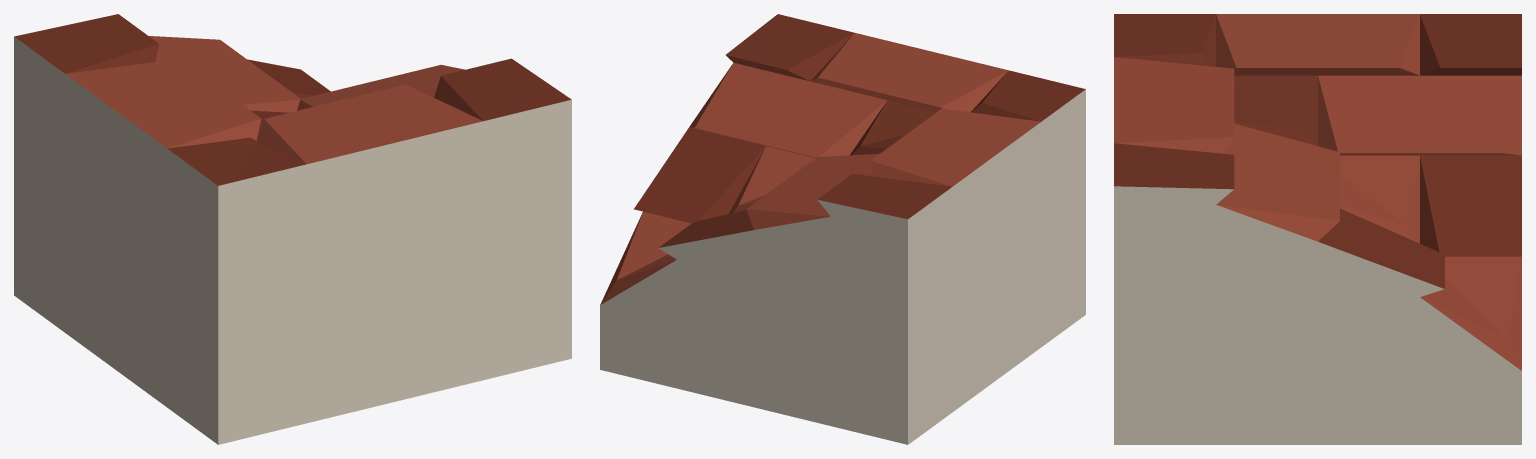
Rendered from Roof_Convex_Corner_Inner.obj.
The picture shows the model from 3 angles, left to right: view 1: azimuth 30°, elevation 25°; view 2: azimuth 150°, elevation 25°; view 3: azimuth 270°, elevation 25°; orthographic projection. The views are drawn at different scales.
Parts seen in each view (by area): view 1: object1; view 2: object1; view 3: object1.
Part boxes in pixels (left/top/right/bottom): object1: left=14, top=14, right=571, bottom=444; object1: left=600, top=14, right=1085, bottom=444; object1: left=1114, top=14, right=1521, bottom=444.
Size of the model in its own units: 1 by 0.7 by 1.
